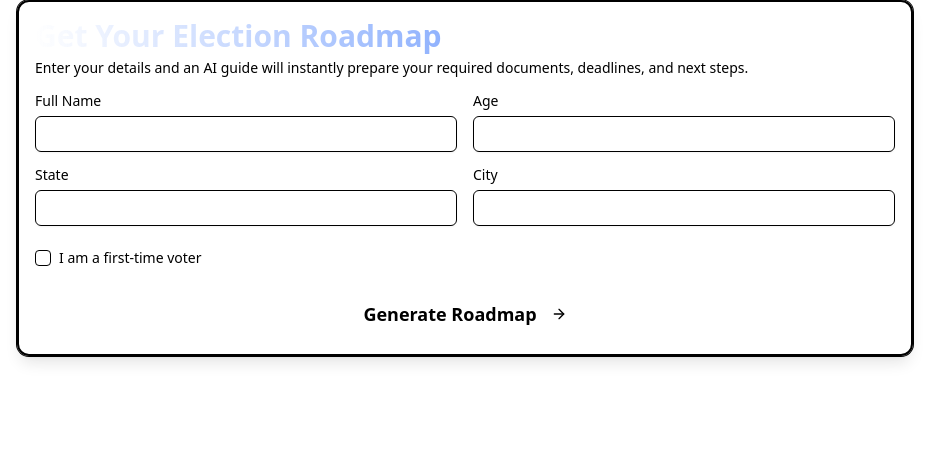
Scenario: VoterJourney Component › should show error alert on API failure
Type "Test" into the field labelled "Full Name" at (246, 134), box [35, 116, 457, 152]
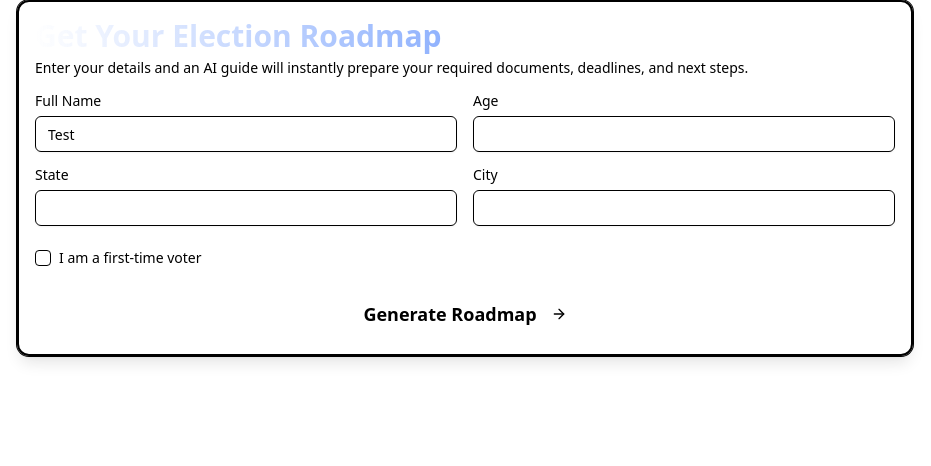
Type "25" into the number field labelled "Age" at (684, 134), box [473, 116, 895, 152]
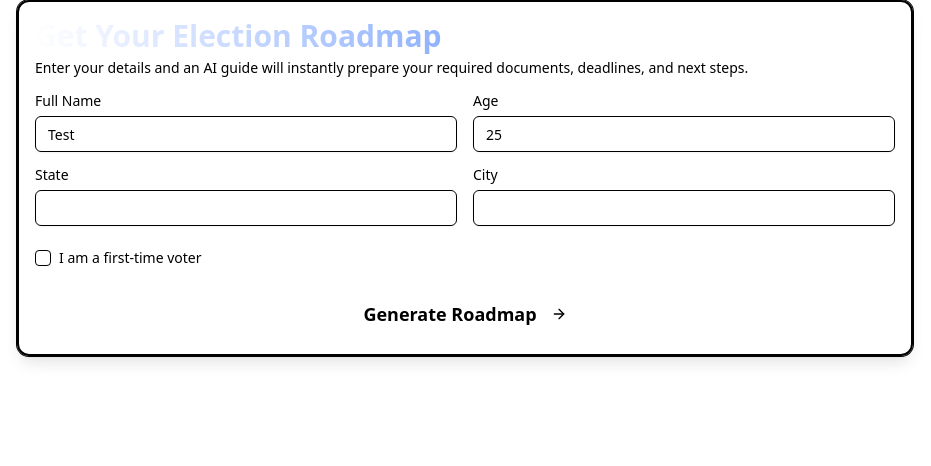
Type "Delhi" into the field labelled "State" at (246, 208), box [35, 190, 457, 226]
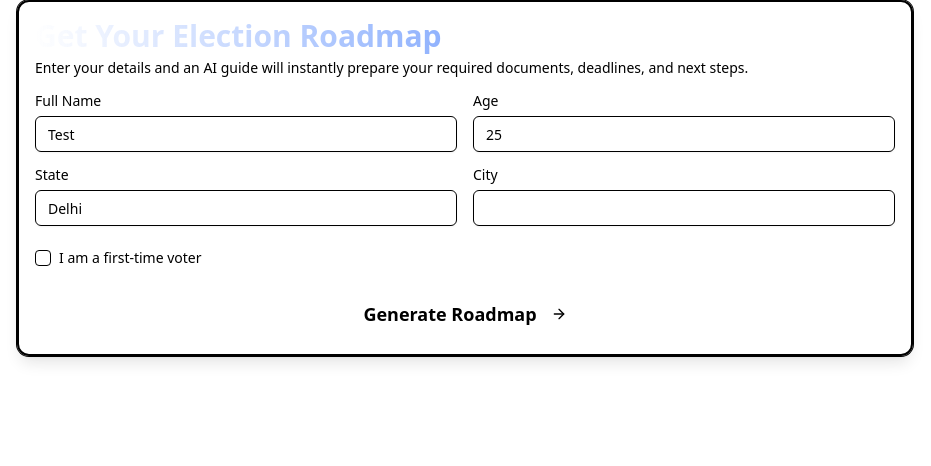
Type "Delhi" into the field labelled "City" at (684, 208), box [473, 190, 895, 226]
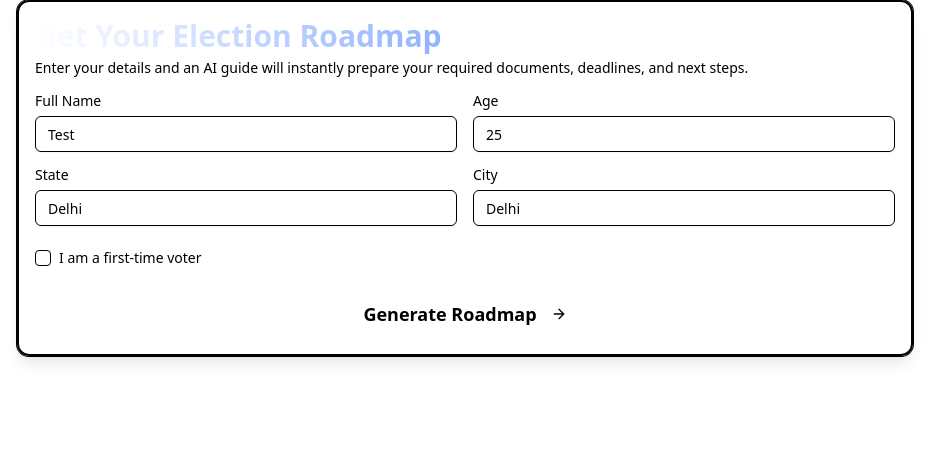
Click the button "Generate Roadmap" at (465, 314), box [35, 290, 895, 338]
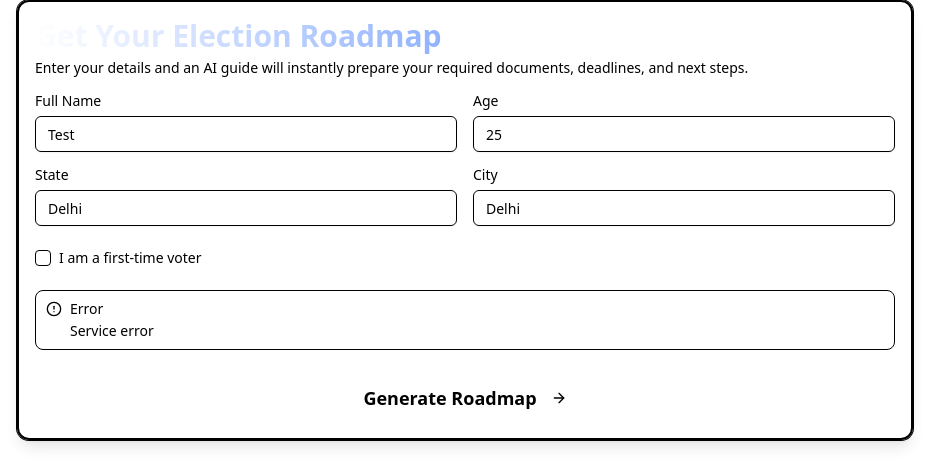
Now the text "Service error" is shown, box [70, 321, 154, 340]
